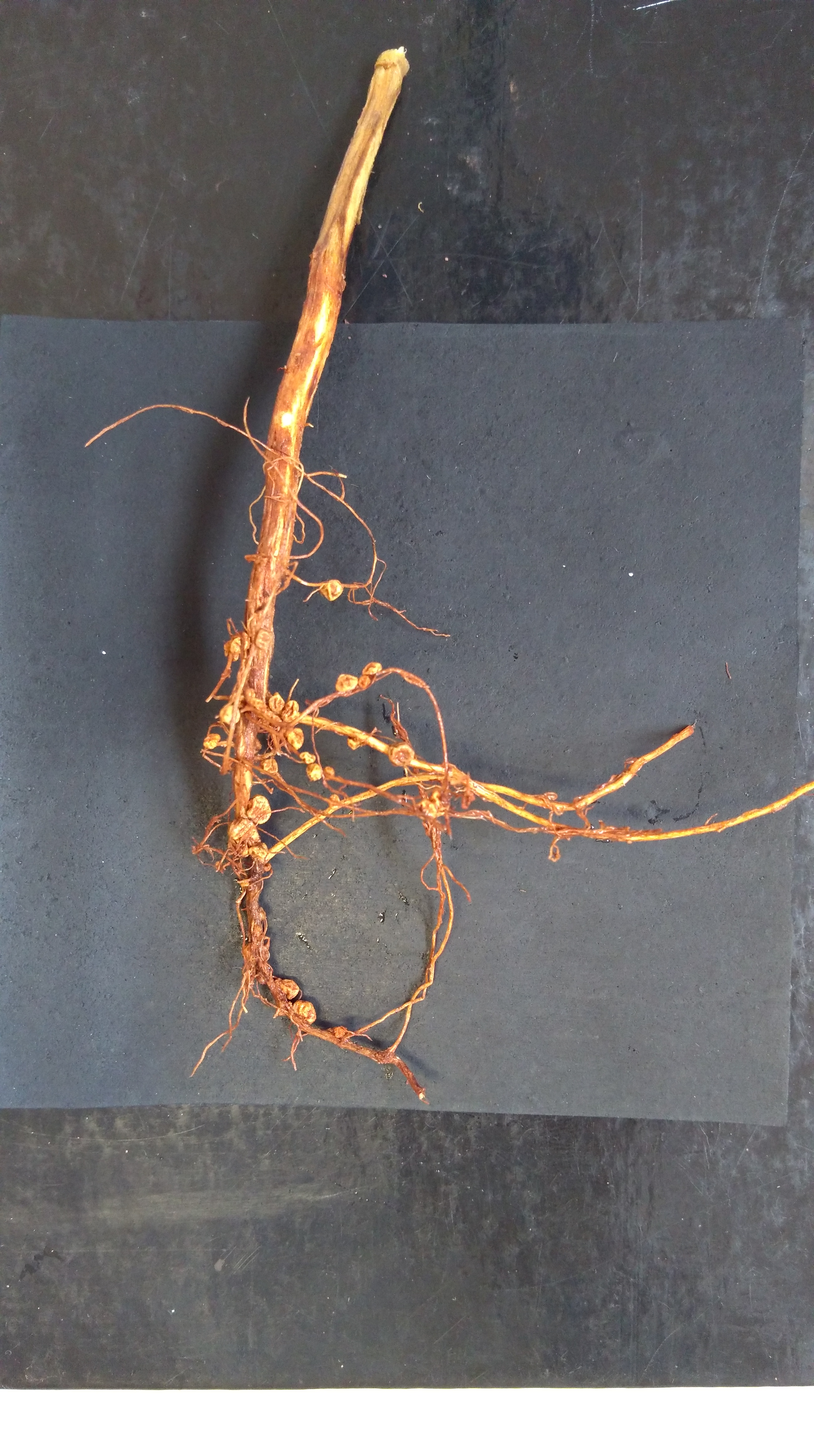nodule: (245, 794, 273, 825), (417, 796, 451, 819), (317, 578, 345, 605), (386, 741, 414, 768), (292, 999, 318, 1025), (227, 817, 251, 839), (278, 977, 300, 1001), (218, 704, 242, 725), (280, 699, 301, 723), (287, 726, 306, 751), (254, 627, 272, 653), (335, 673, 358, 692), (258, 757, 281, 775), (267, 693, 286, 713), (304, 762, 323, 782), (245, 688, 264, 707), (248, 842, 269, 859), (361, 660, 383, 676), (202, 732, 221, 750), (345, 735, 365, 751), (237, 630, 251, 651), (298, 750, 317, 765), (358, 674, 373, 690), (327, 793, 342, 809), (333, 1024, 349, 1039), (230, 636, 242, 653), (323, 764, 337, 778), (260, 709, 272, 725), (223, 639, 232, 657), (256, 970, 267, 984), (240, 844, 250, 859), (252, 737, 262, 752), (272, 714, 282, 727), (262, 862, 272, 873), (232, 652, 239, 662)
